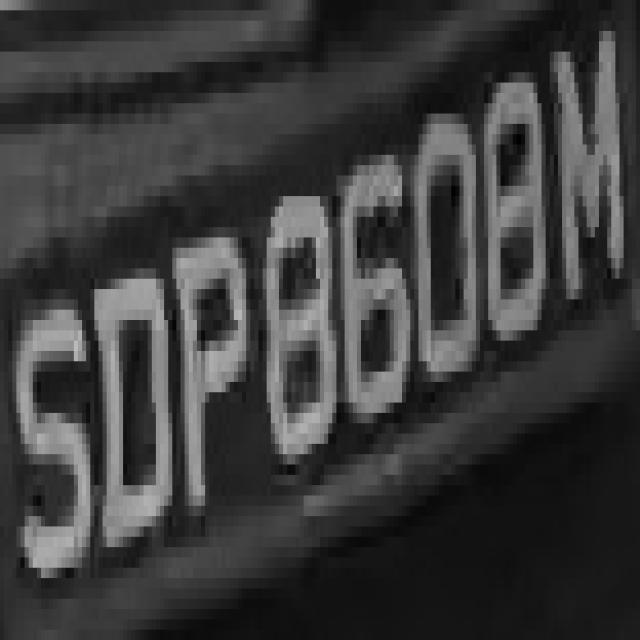0: (398, 114, 484, 423)
6: (340, 93, 422, 454)
8: (468, 41, 550, 392), (258, 165, 340, 506)
D: (82, 217, 172, 588)
M: (546, 10, 628, 341)
P: (164, 227, 263, 588)
S: (4, 248, 90, 609)
